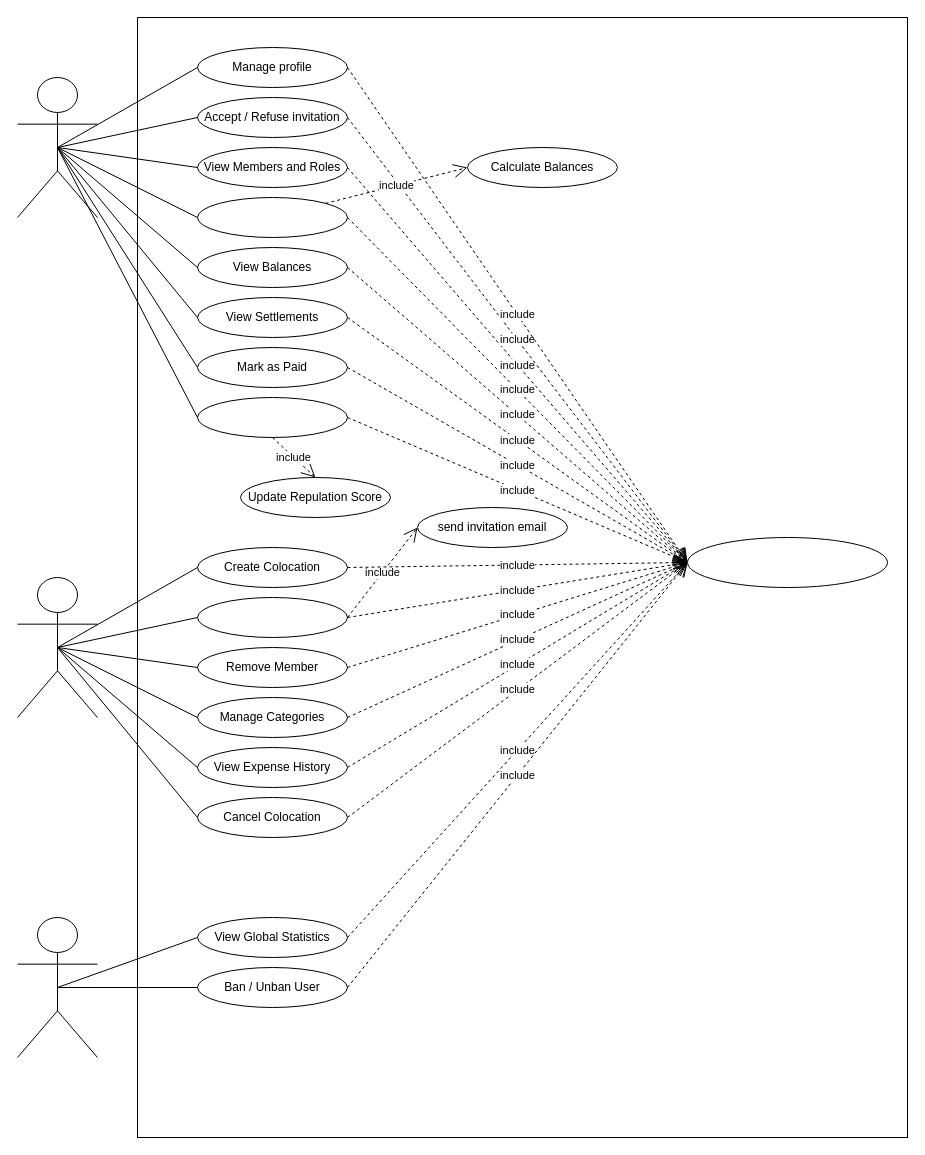
Some shapes in this 925 by 1155 pixel diagram are drawn without their labels. Each missing label, with the box of its shape:
Add Expense: (196, 196, 348, 238)
Admin: (16, 916, 98, 1058)
Auth: (686, 536, 888, 588)
Invite Members: (196, 596, 348, 638)
Leave Colocation: (196, 396, 348, 438)
Member: (16, 76, 98, 218)
Owner: (16, 576, 98, 718)
